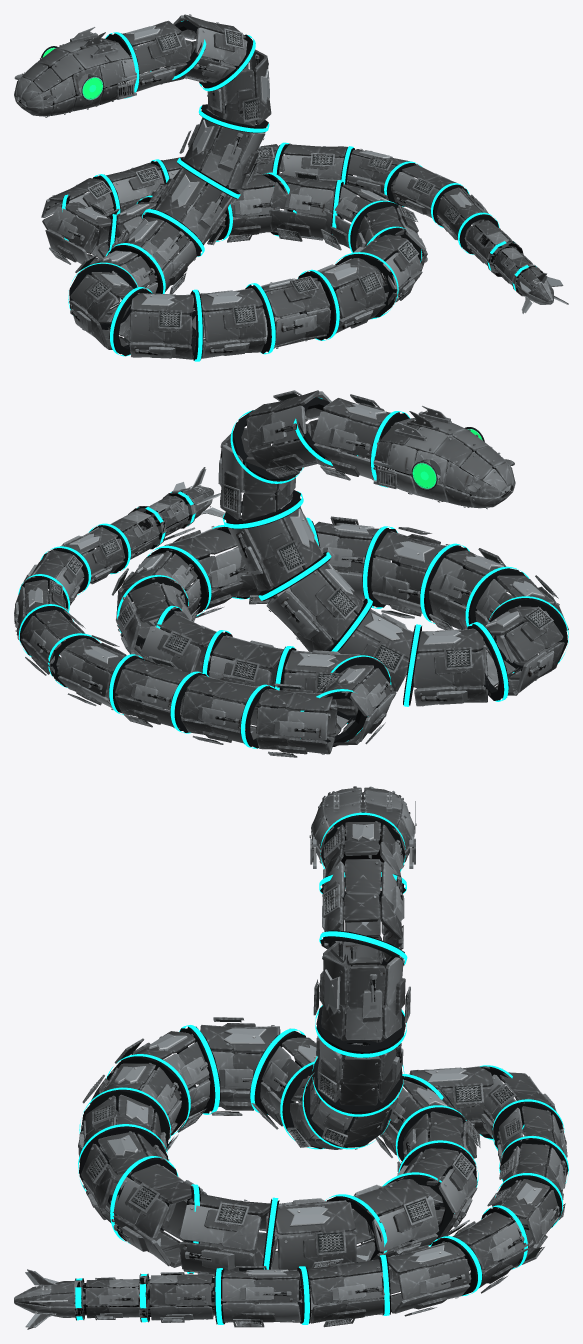
File: snake-sectional-r4-fresh.glb
3 views of the same model, one above another, from view 1: azimuth 30°, elevation 25°; view 2: azimuth 150°, elevation 25°; view 3: azimuth 270°, elevation 25° (orthographic). The views are drawn at different scales.
Parts seen in each view (by area): view 1: Head, Segment_08, Segment_09, Segment_03, Tail, Segment_10, Segment_04, Segment_15, Segment_11, Segment_02, Segment_01, Segment_19 (+25 smaller); view 2: Head, Segment_06, Segment_20, Segment_04, Segment_01, Segment_03, Segment_00, Segment_07, Segment_10, Segment_21, Tail, Segment_22 (+36 smaller); view 3: Tail, Segment_02, Segment_01, Segment_13, Segment_12, Segment_14, Segment_15, Segment_25, Segment_26, Segment_27, Segment_07, Segment_03 (+29 smaller).
Part boxes in pixels (bbox=[...]): Head: bbox=[14, 27, 136, 117]; Segment_08: bbox=[129, 293, 196, 359]; Segment_09: bbox=[191, 288, 266, 358]; Segment_03: bbox=[179, 108, 265, 189]; Tail: bbox=[466, 220, 568, 313]; Segment_10: bbox=[253, 276, 330, 348]; Segment_04: bbox=[148, 166, 232, 245]; Segment_15: bbox=[269, 171, 343, 241]; Segment_11: bbox=[302, 258, 386, 333]; Segment_02: bbox=[207, 49, 271, 126]; Segment_01: bbox=[165, 14, 247, 85]; Segment_19: bbox=[45, 201, 124, 264]; Head: bbox=[373, 405, 515, 509]; Segment_06: bbox=[413, 628, 488, 706]; Segment_20: bbox=[256, 683, 337, 757]; Segment_04: bbox=[266, 563, 363, 651]; Segment_01: bbox=[246, 390, 340, 478]; Segment_03: bbox=[228, 498, 323, 590]; Segment_00: bbox=[312, 394, 390, 480]; Segment_07: bbox=[469, 606, 564, 695]; Segment_10: bbox=[371, 527, 462, 618]; Segment_21: bbox=[181, 671, 269, 744]; Tail: bbox=[96, 467, 224, 559]; Segment_22: bbox=[115, 656, 204, 729]; Tail: bbox=[14, 1269, 215, 1329]; Segment_02: bbox=[313, 940, 410, 1039]; Segment_01: bbox=[322, 859, 404, 965]; Segment_13: bbox=[178, 1192, 278, 1276]; Segment_12: bbox=[109, 1164, 211, 1267]; Segment_14: bbox=[266, 1198, 356, 1270]; Segment_15: bbox=[333, 1177, 439, 1262]; Segment_25: bbox=[374, 1241, 470, 1316]; Segment_26: bbox=[300, 1258, 390, 1327]; Segment_27: bbox=[221, 1266, 302, 1327]; Segment_07: bbox=[198, 1017, 280, 1115]; Segment_03: bbox=[316, 1000, 403, 1105].
Bounding box in the file's own units: 7.49 × 4.49 × 6.61.
Materials: 14 (3 with a texture image).
